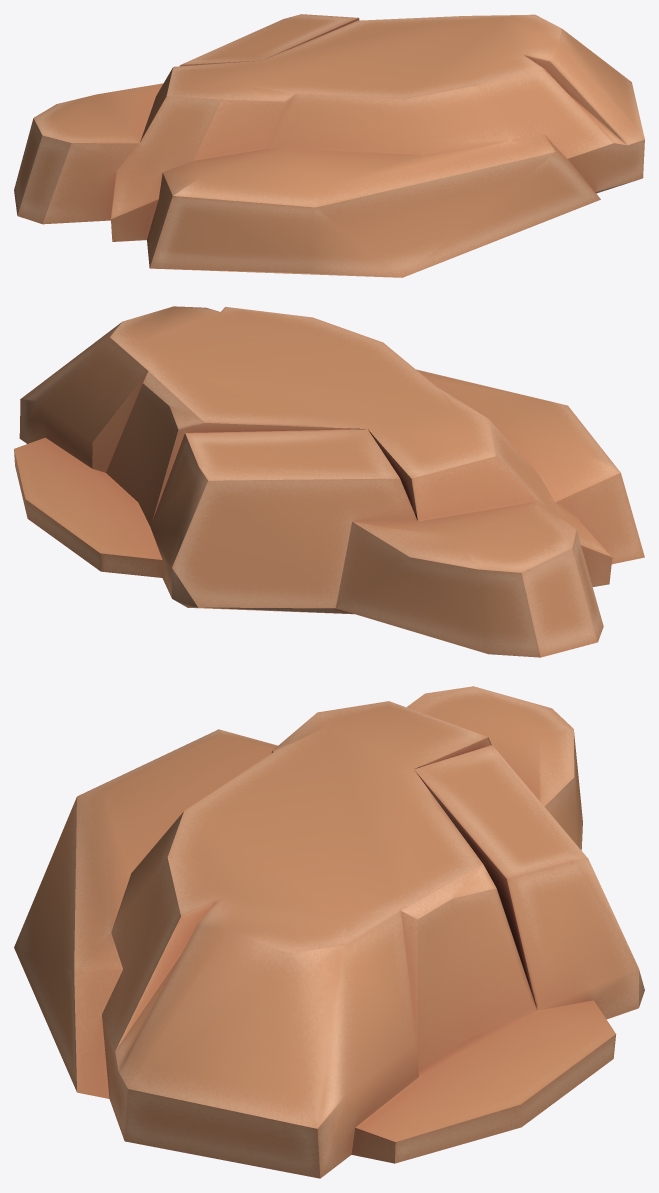
The model's file is rock_4.glb.
The picture shows the model from 3 angles, top to bottom: view 1: azimuth 30°, elevation 25°; view 2: azimuth 150°, elevation 25°; view 3: azimuth 270°, elevation 25°; orthographic projection. The views are drawn at different scales.
Visible parts, largest first — view 1: Rock_4; view 2: Rock_4; view 3: Rock_4.
Part boxes in pixels (<box>): Rock_4: <box>14,14,644,277</box>; Rock_4: <box>14,306,644,657</box>; Rock_4: <box>14,686,644,1178</box>.
Size of the model in its own units: 7.49 by 1.63 by 4.96.
Materials: 1 (1 with a texture image).
